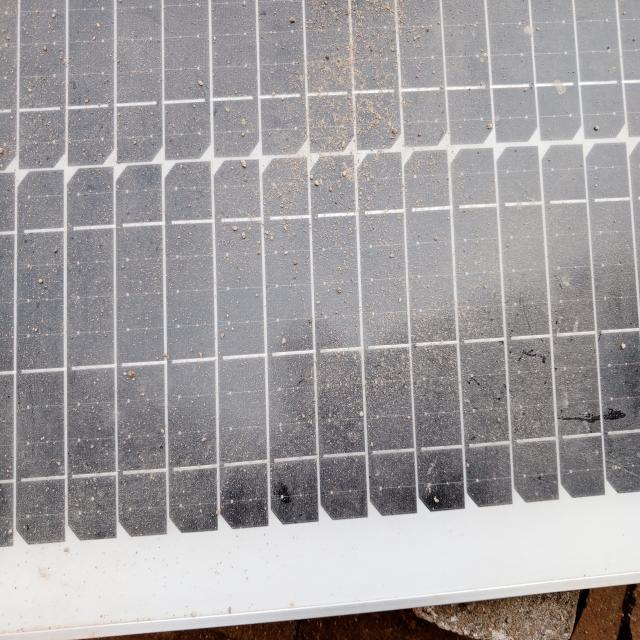Surface Contaminant: (10, 6, 639, 527)
